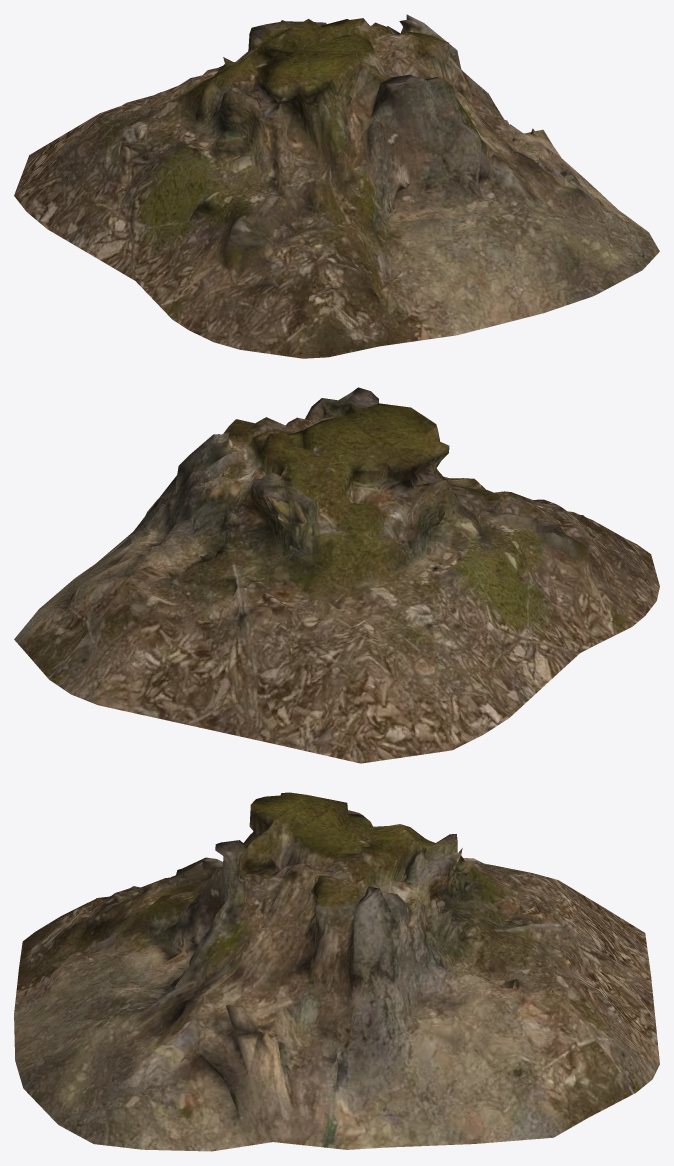
The model's file is tree_stump_01.ab920c51.glb.
The picture shows the model from 3 angles, top to bottom: view 1: azimuth 30°, elevation 25°; view 2: azimuth 150°, elevation 25°; view 3: azimuth 270°, elevation 25°; orthographic projection. The views are drawn at different scales.
Parts seen in each view (by area): view 1: tree_stump_01; view 2: tree_stump_01; view 3: tree_stump_01.
Boxes of the visible parts, x1=… form: tree_stump_01: x1=14, y1=14, x2=659, y2=358; tree_stump_01: x1=14, y1=387, x2=659, y2=763; tree_stump_01: x1=14, y1=792, x2=659, y2=1151.
Size of the model in its own units: 1.43 by 0.57 by 1.59.
Materials: 1 (1 with a texture image).
